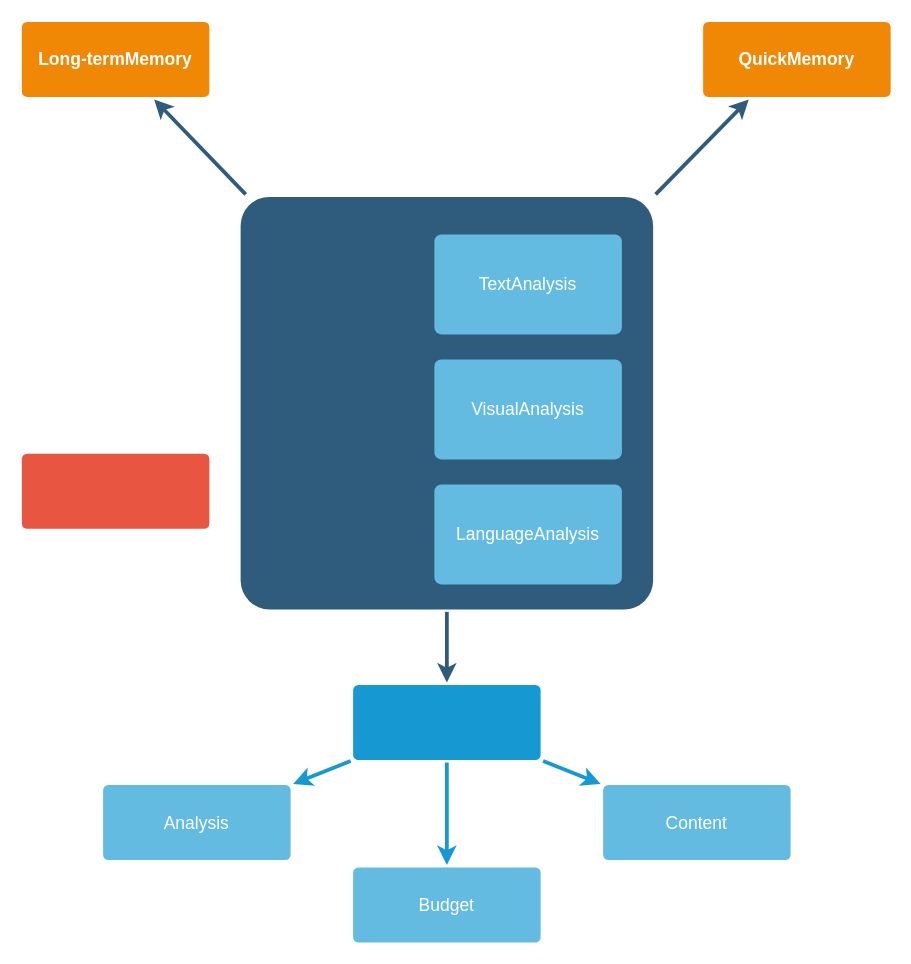
Image size: 911x964. Some labels were removed from this diagram. The shapes that lost their labels are listed below. From the top down, each one's centre as x and y in pixels, then its label:
the point at 115,490: Embassy
the point at 446,721: ProtocolConnector
